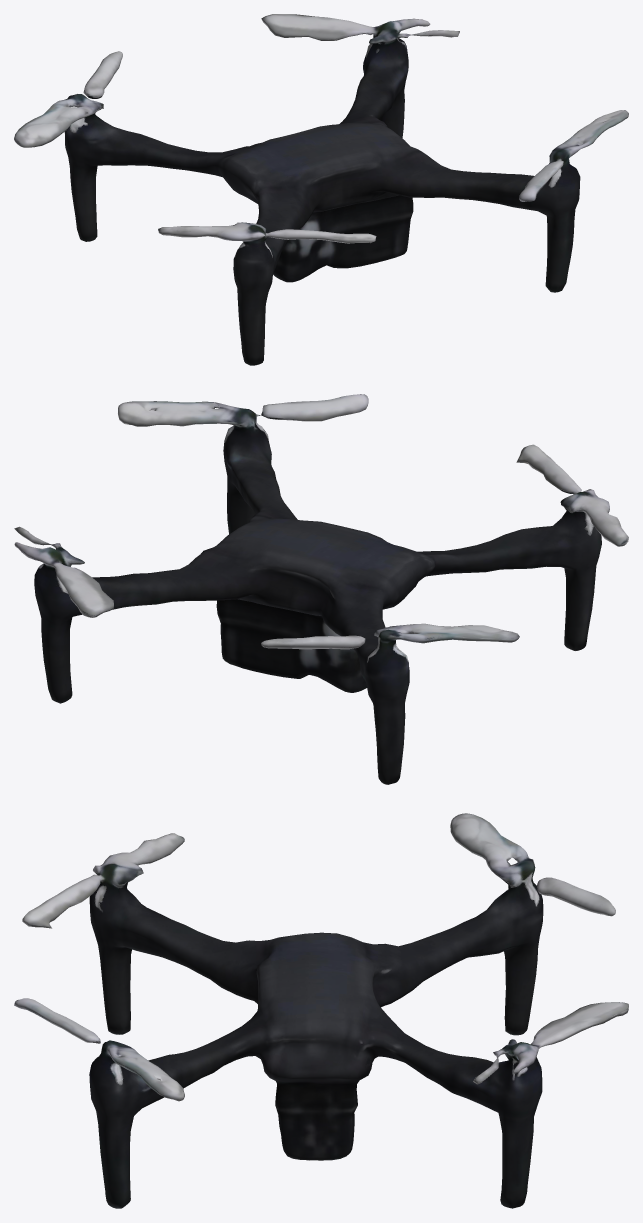
The model's file is 6dron (1).obj.
3 renders of one model, top to bottom at view 1: azimuth 30°, elevation 25°; view 2: azimuth 150°, elevation 25°; view 3: azimuth 270°, elevation 25°, orthographic. The views are drawn at different scales.
Parts seen in each view (by area): view 1: mesh; view 2: mesh; view 3: mesh.
Boxes of the visible parts, x1,y1,x2,y2 form: mesh: (14, 14, 628, 365); mesh: (14, 394, 628, 784); mesh: (14, 813, 628, 1208).
Size of the model in its own units: 0.9955 by 0.2856 by 0.9206.
